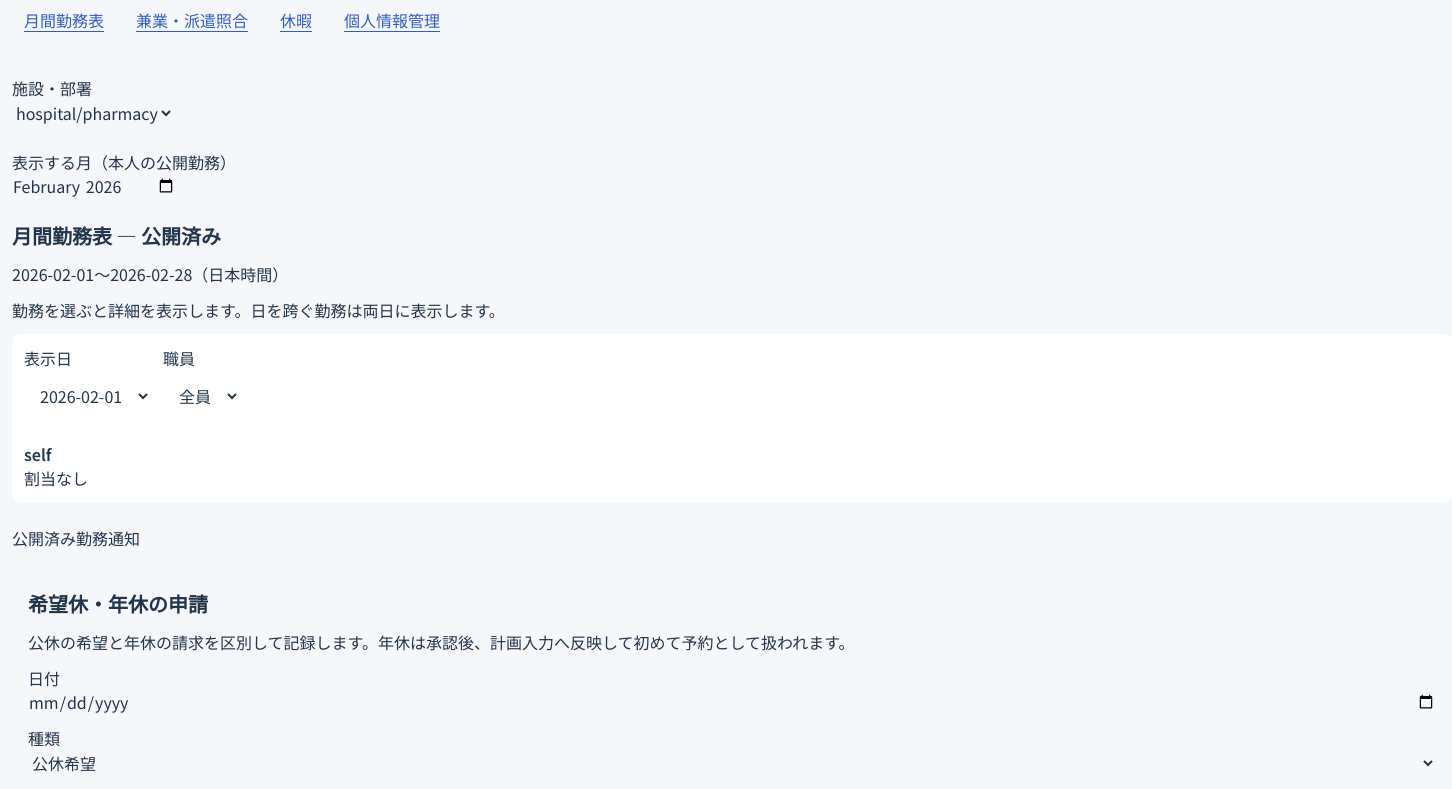
Test: pharmacist deep link uses selected month across two publications and preserves it in navigation
Expected: the button "2026-01" is not shown
Replace the text in the field labelled "表示する月（本人の公開勤務）" with "2026-01" at {"x": 94, "y": 186}, box [12, 174, 176, 198]
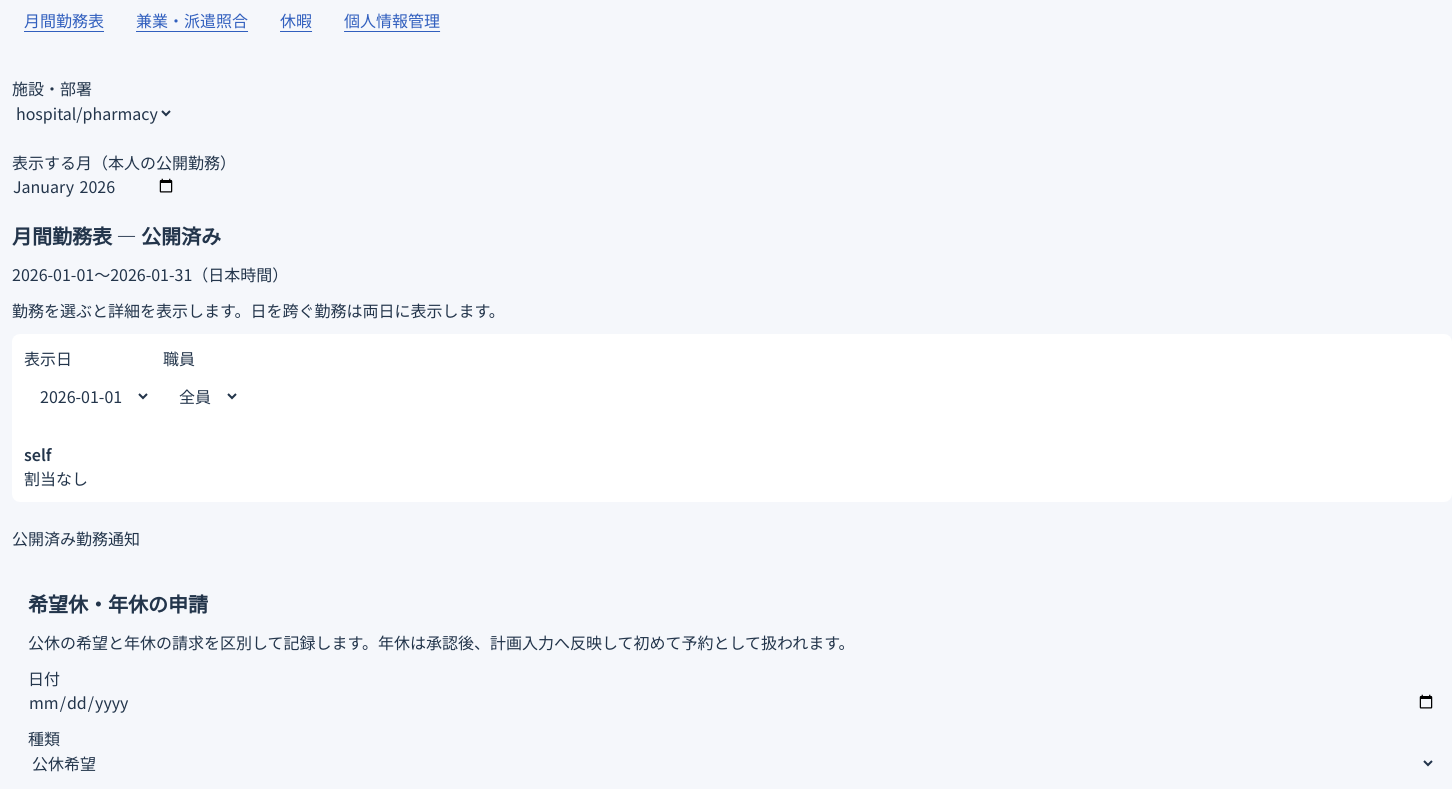
Now the text "2026-02" is gone
